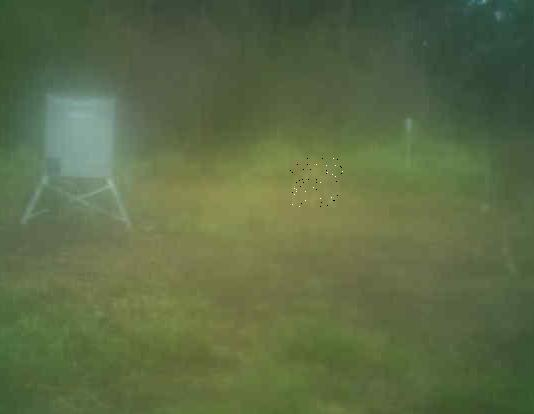Deer: (291, 158, 344, 207)
